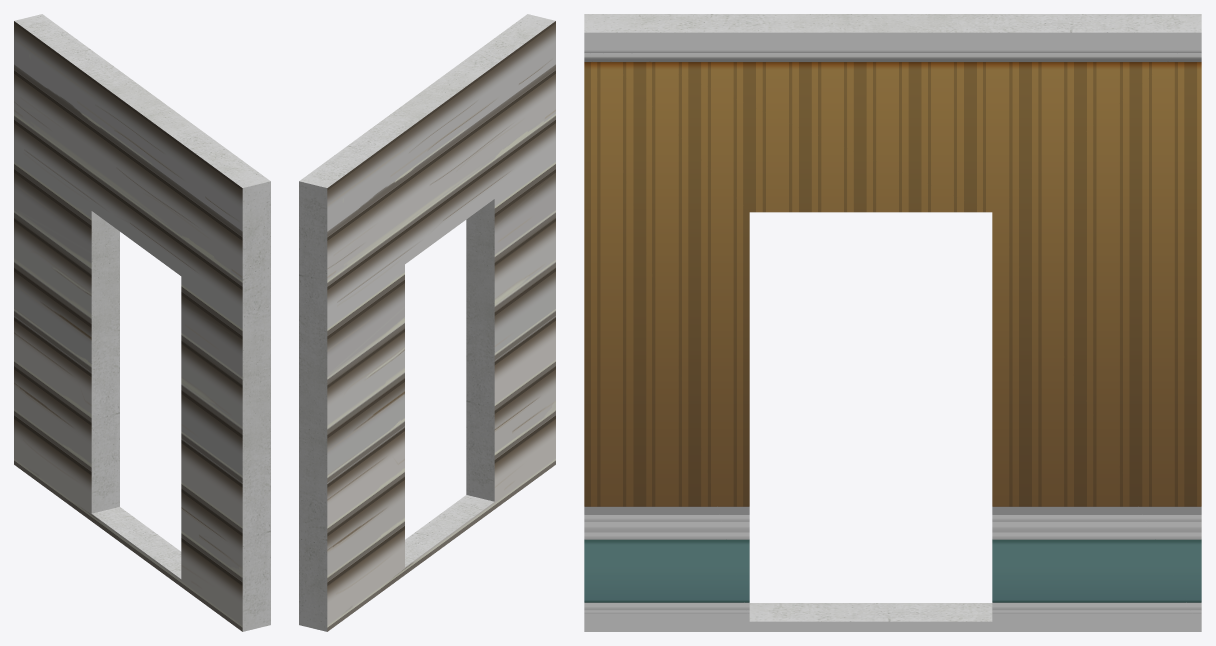
The model's file is wall01_interior_door1m.fbx.
3 renders of one model, left to right at view 1: azimuth 30°, elevation 25°; view 2: azimuth 150°, elevation 25°; view 3: azimuth 270°, elevation 25°, orthographic. The views are drawn at different scales.
Parts seen in each view (by area): view 1: wall01_interior_door1m; view 2: wall01_interior_door1m; view 3: wall01_interior_door1m.
Boxes of the visible parts, bbox=[...] form: wall01_interior_door1m: bbox=[14, 14, 270, 631]; wall01_interior_door1m: bbox=[299, 14, 555, 631]; wall01_interior_door1m: bbox=[584, 14, 1201, 631].
Size of the model in its own units: 20 by 300 by 280.
